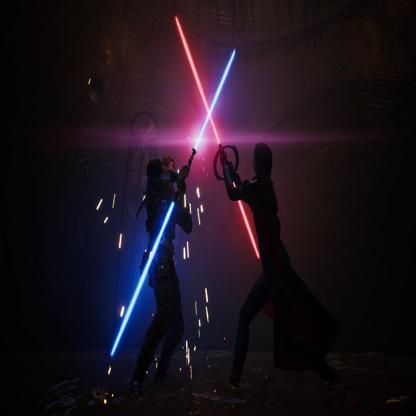lightsaber: (102, 45, 238, 363), (174, 16, 262, 262)
